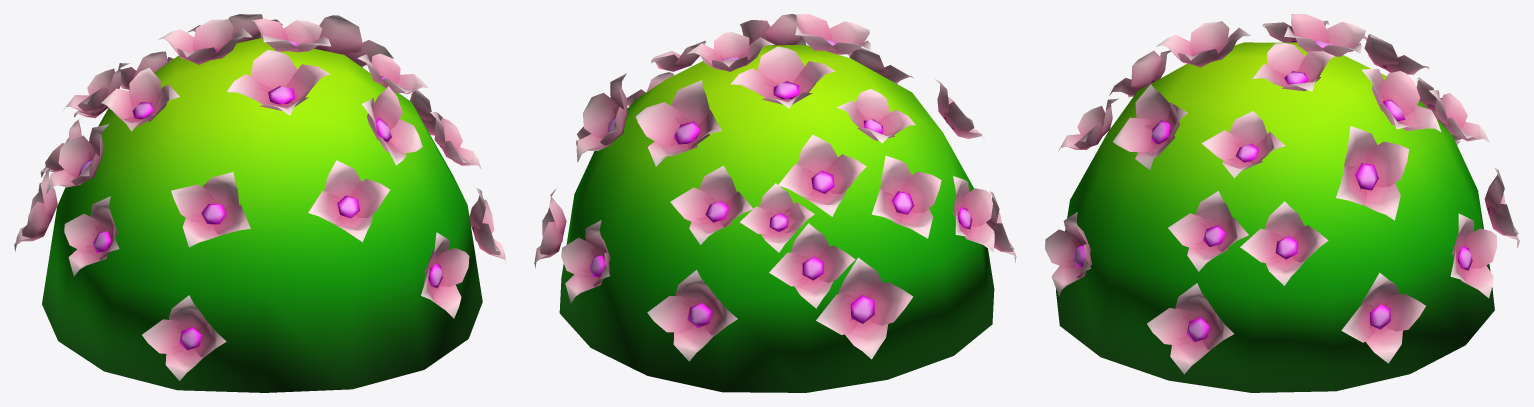
File: Bush1_LOD1.fbx
3 views of the same model, side by side, from view 1: azimuth 30°, elevation 25°; view 2: azimuth 150°, elevation 25°; view 3: azimuth 270°, elevation 25° (orthographic).
Parts seen in each view (by area): view 1: Bush1; view 2: Bush1; view 3: Bush1.
Part boxes in pixels (x1,y1,x2,y2): Bush1: (14,14,505,392); Bush1: (534,14,1016,392); Bush1: (1045,14,1519,392).
Bounding box in the file's own units: 118 × 73.76 × 121.
Materials: 1 (1 with a texture image).
